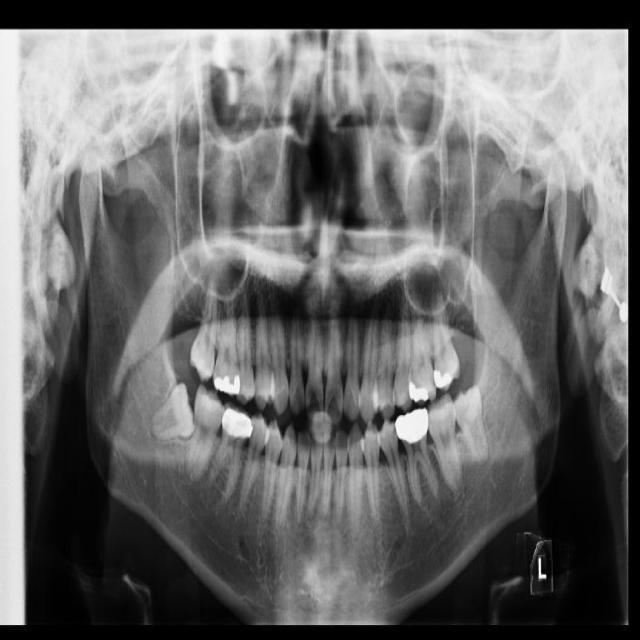52: (391, 406, 438, 451), (219, 400, 254, 442), (406, 358, 438, 403), (433, 348, 460, 391), (214, 355, 240, 394)
73: (603, 556, 607, 566)
BioHorizons Implant: (429, 289, 461, 391)
Biomet 3i Implant: (447, 383, 492, 470)
Blue Sky Bio Implant: (424, 393, 463, 494)
Caries: (188, 271, 222, 383)
Implant: (184, 383, 228, 481)
Keystone Dental Implant: (144, 383, 198, 445)
